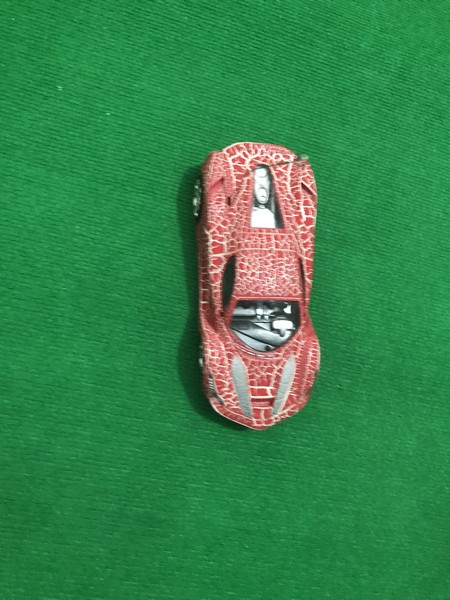RC: (190, 141, 324, 432)
